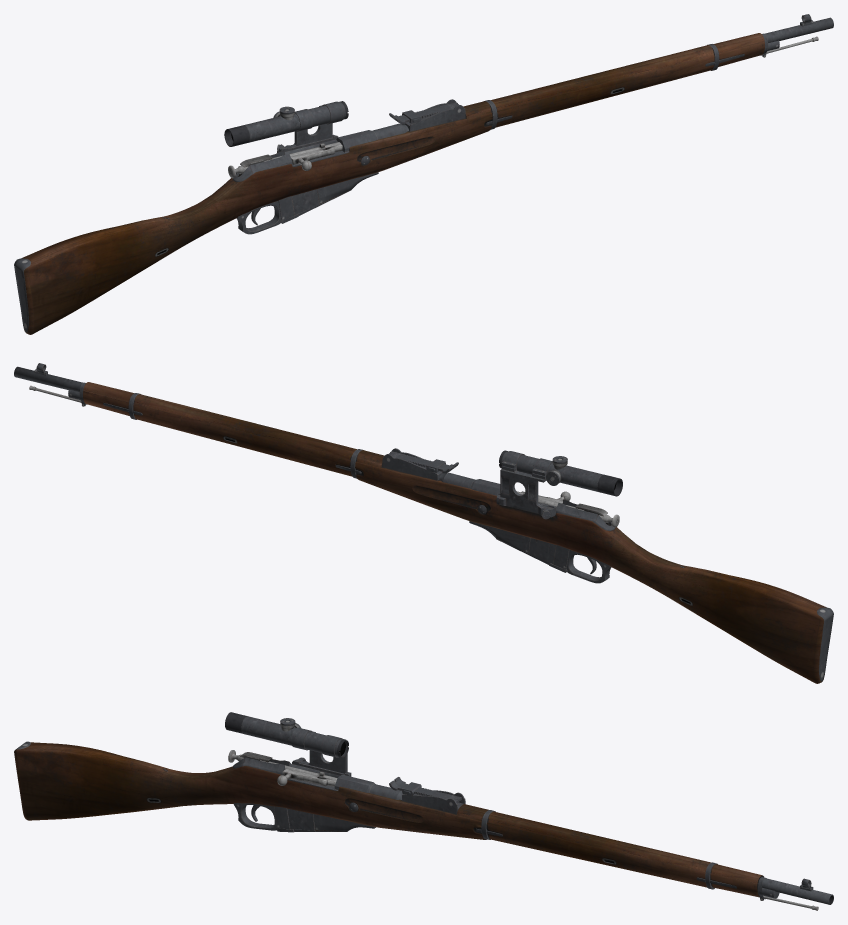
Rendered from car98.fbx.
The picture shows the model from 3 angles, top to bottom: view 1: azimuth 30°, elevation 25°; view 2: azimuth 150°, elevation 25°; view 3: azimuth 330°, elevation 25°; orthographic projection.
Parts seen in each view (by area): view 1: Car98, Car98_Scop; view 2: Car98, Car98_Scop; view 3: Car98, Car98_Scop.
Part boxes in pixels (bbox=[...]): Car98: bbox=[14, 14, 833, 334]; Car98_Scop: bbox=[224, 101, 348, 152]; Car98: bbox=[14, 363, 833, 683]; Car98_Scop: bbox=[496, 450, 622, 519]; Car98: bbox=[14, 741, 833, 910]; Car98_Scop: bbox=[225, 712, 351, 776].
Bounding box in the file's own units: 707 × 134 × 42.04.
2 materials, 2 textured.
